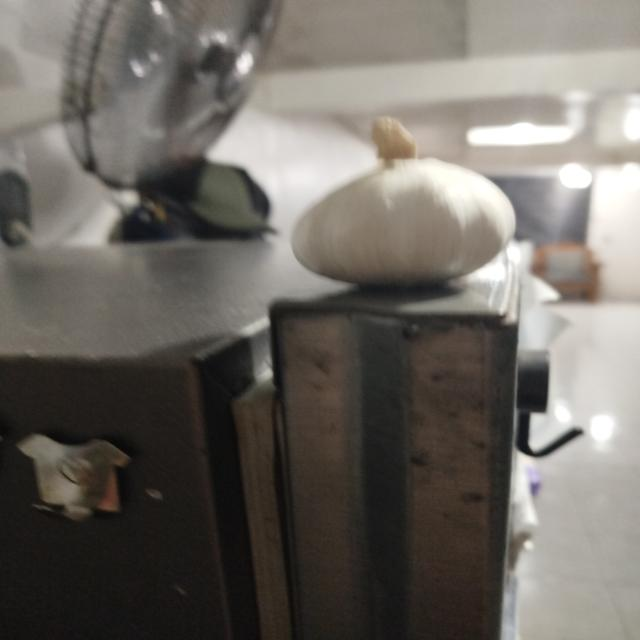garlic: (284, 99, 528, 300)
